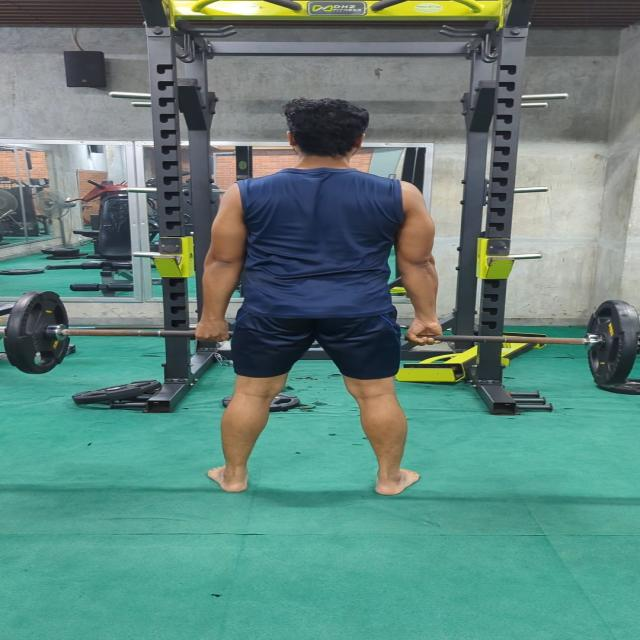Normal_Deadlifts: (130, 87, 478, 516)
